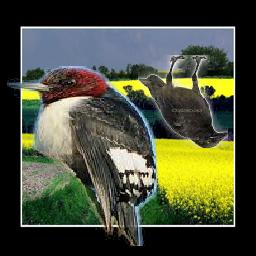Crow: (138, 56, 228, 149)
Woodpecker: (7, 66, 157, 246)
